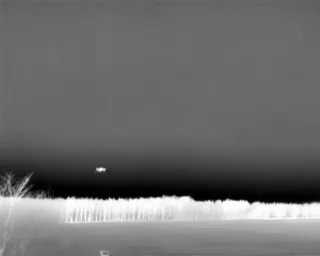DRONE: (91, 163, 111, 179)
